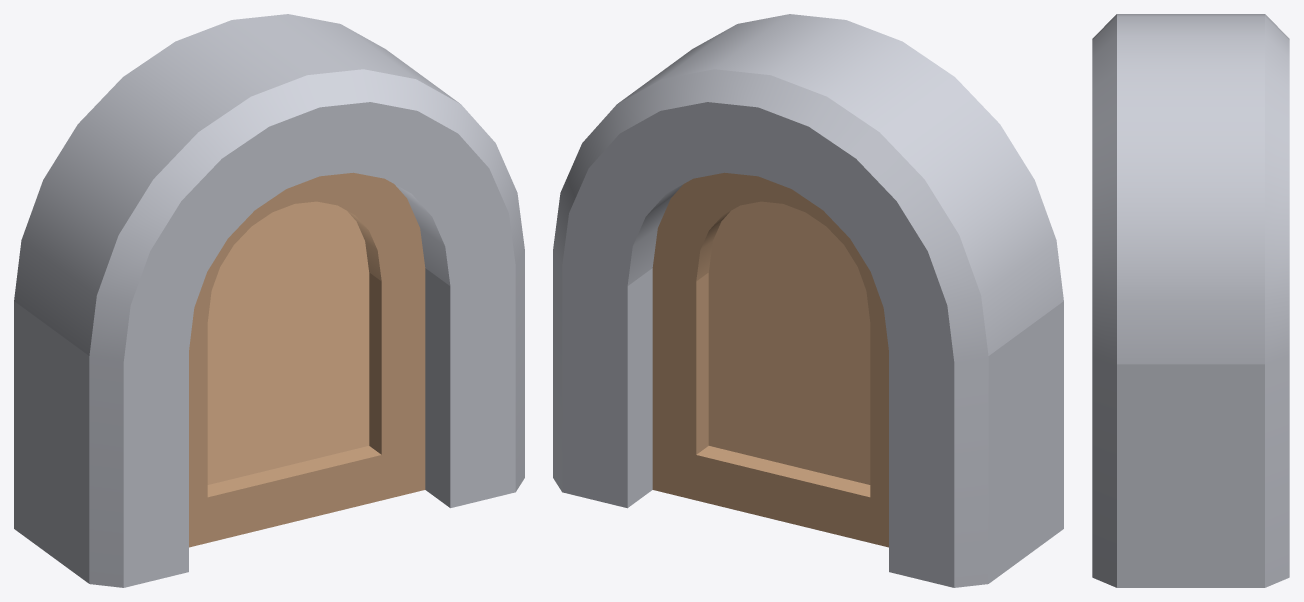
The picture shows the model from 3 angles, left to right: view 1: azimuth 30°, elevation 25°; view 2: azimuth 150°, elevation 25°; view 3: azimuth 270°, elevation 25°; orthographic projection.
Visible parts, largest first — view 1: doorLargeClosed; view 2: doorLargeClosed; view 3: doorLargeClosed.
Part boxes in pixels (left/top/right/bottom): doorLargeClosed: left=14, top=14, right=524, bottom=587; doorLargeClosed: left=553, top=14, right=1063, bottom=587; doorLargeClosed: left=1092, top=14, right=1289, bottom=587.
Bounding box in the file's own units: 1 × 1 × 0.4.
